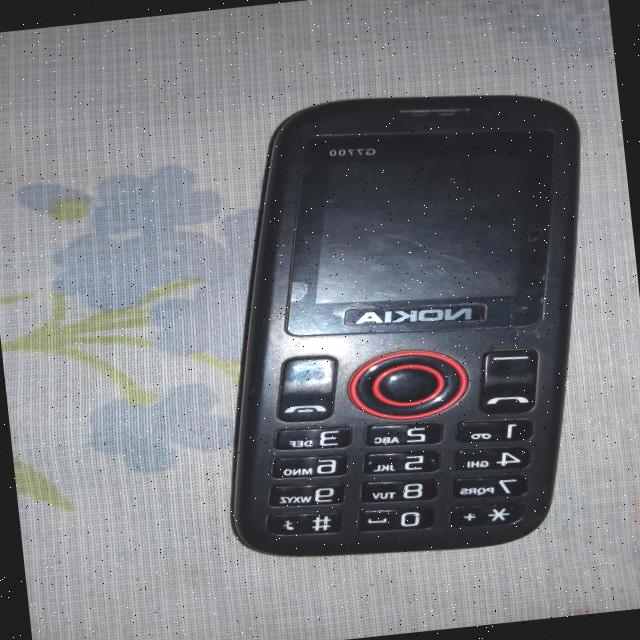Phone: (180, 72, 624, 576)
